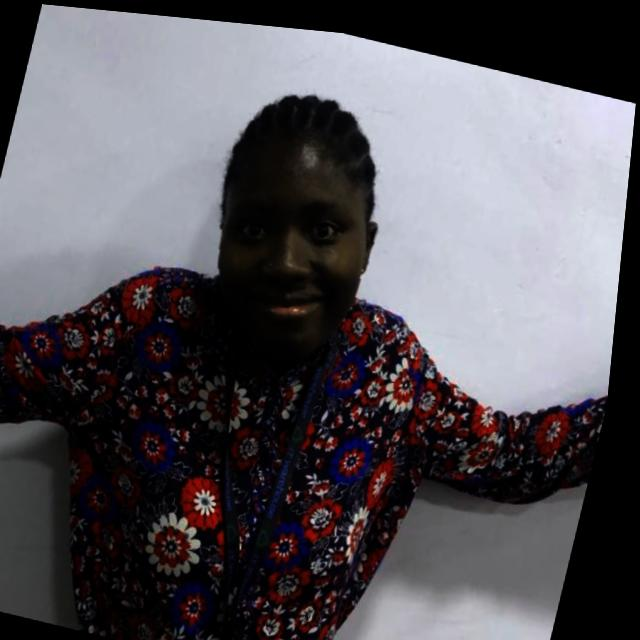happy: (186, 64, 415, 374)
